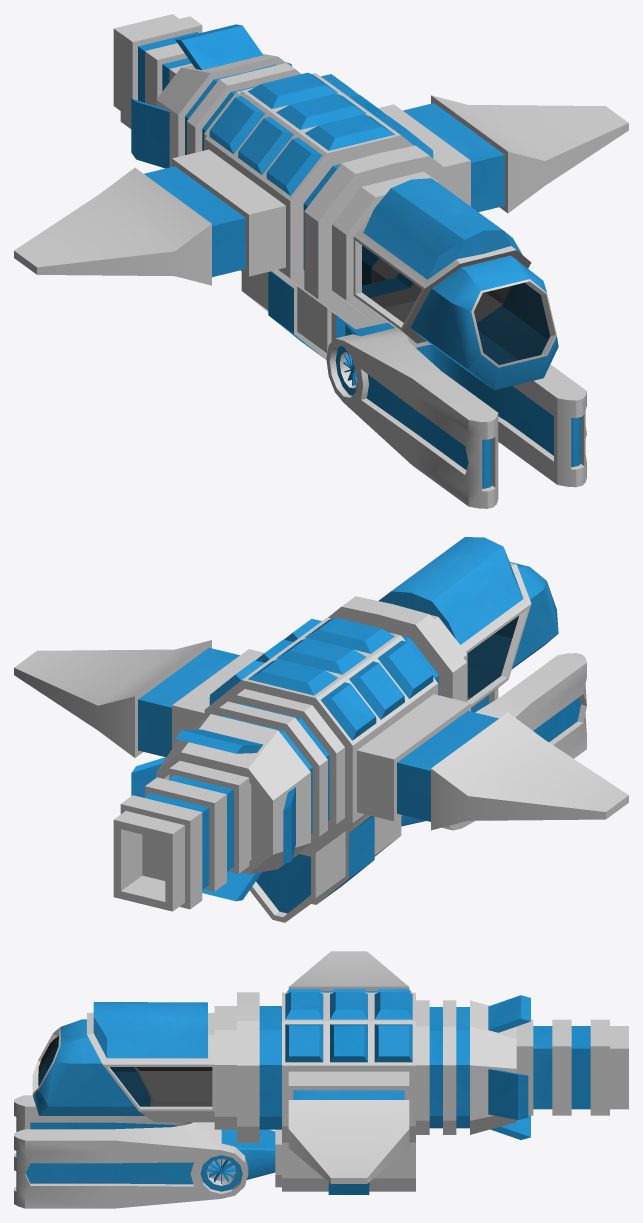
The model's file is BBD.fbx.
The picture shows the model from 3 angles, top to bottom: view 1: azimuth 30°, elevation 25°; view 2: azimuth 150°, elevation 25°; view 3: azimuth 270°, elevation 25°; orthographic projection. The views are drawn at different scales.
Visible parts, largest first — view 1: BBD; view 2: BBD; view 3: BBD.
Boxes of the visible parts, x1,y1,x2,y2 form: BBD: (14,14,628,508); BBD: (14,537,628,922); BBD: (14,951,628,1208).
Size of the model in its own units: 8 by 3.15 by 9.17.
